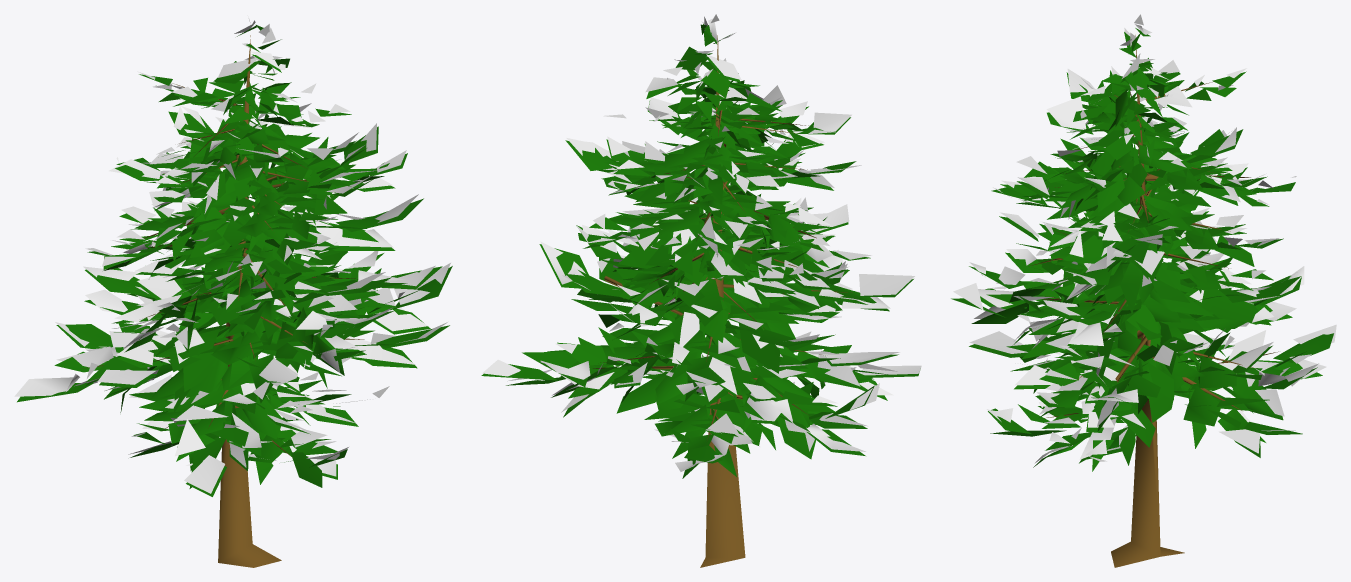
Rendered from SnowTree2.dae.
The picture shows the model from 3 angles, left to right: view 1: azimuth 30°, elevation 25°; view 2: azimuth 150°, elevation 25°; view 3: azimuth 270°, elevation 25°; orthographic projection.
Parts seen in each view (by area): view 1: SM_PineTree_001; view 2: SM_PineTree_001; view 3: SM_PineTree_001.
Part boxes in pixels (<box>): SM_PineTree_001: <box>14,18,452,567</box>; SM_PineTree_001: <box>481,14,921,567</box>; SM_PineTree_001: <box>951,14,1336,567</box>.
Size of the model in its own units: 8.87 by 7.71 by 11.95.
